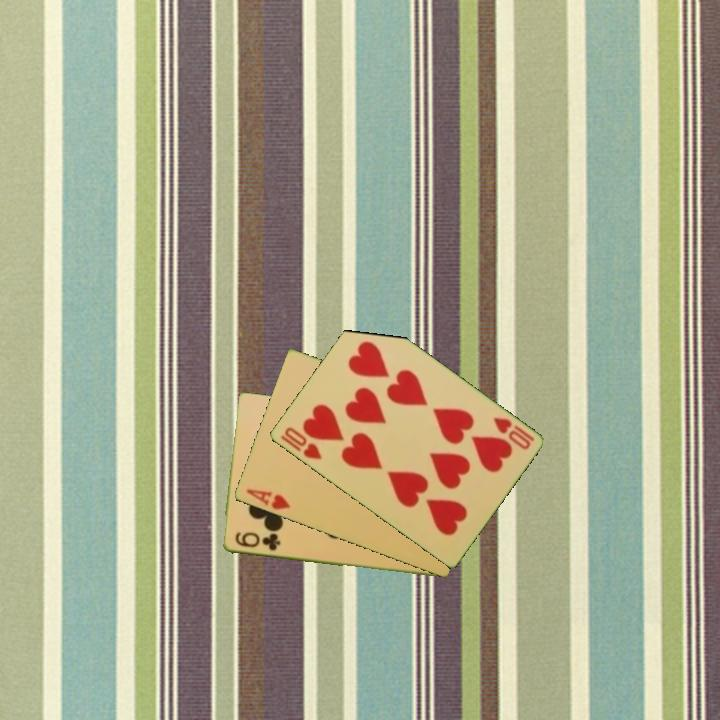10h: (489, 414, 537, 453), (280, 424, 324, 463)
6c: (231, 529, 283, 554)
Ah: (242, 486, 293, 513)
